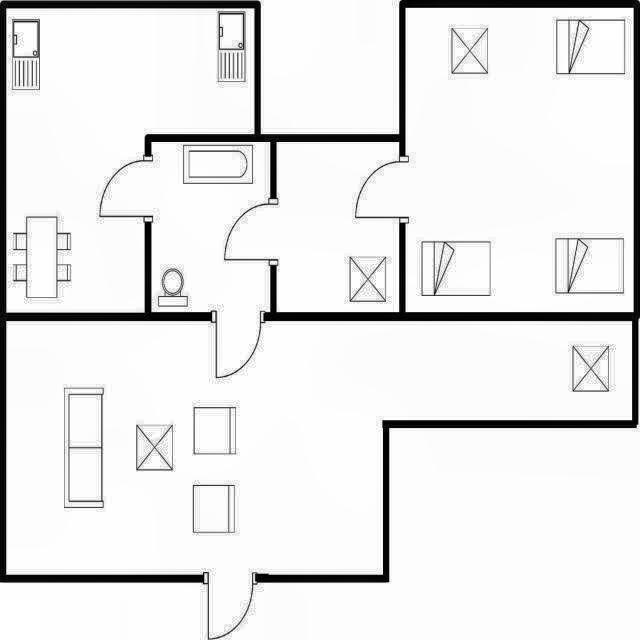room: (6, 321, 632, 574), (6, 7, 254, 312), (406, 8, 633, 312), (277, 143, 399, 311), (151, 142, 270, 312)
